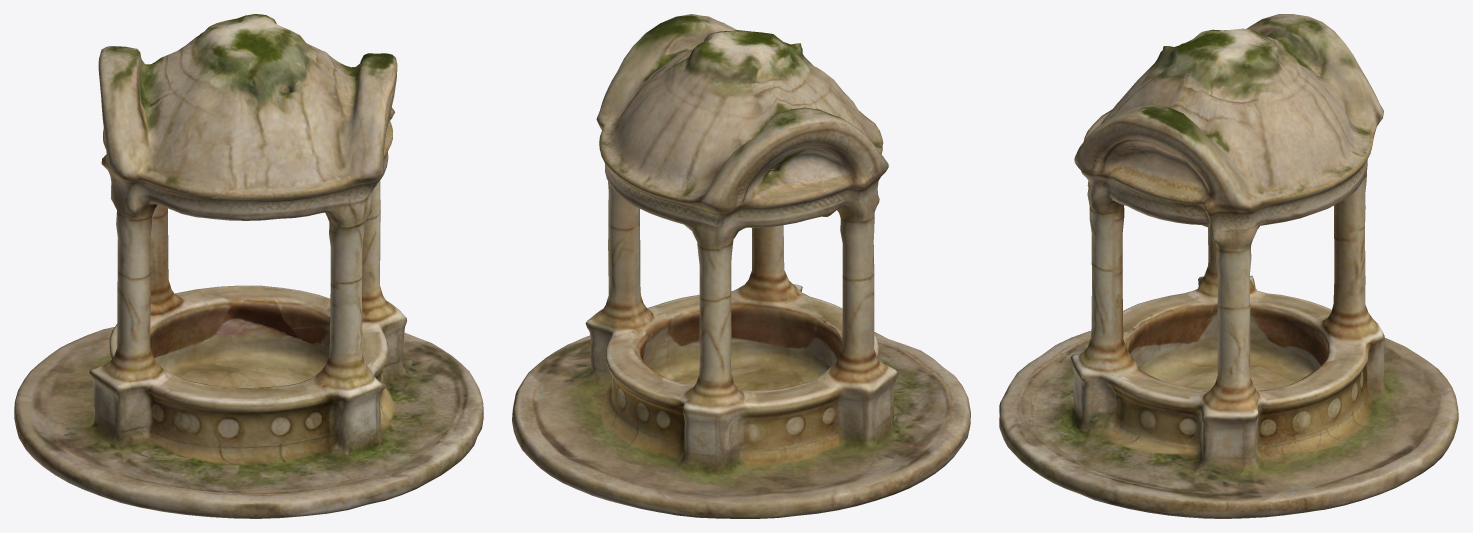
Rendered from Ancient_Stone_Pavilio_1226094634.fbx.
3 views of the same model, side by side, from view 1: azimuth 30°, elevation 25°; view 2: azimuth 150°, elevation 25°; view 3: azimuth 270°, elevation 25° (orthographic). The views are drawn at different scales.
Visible parts, largest first — view 1: Mesh_0; view 2: Mesh_0; view 3: Mesh_0.
Boxes of the visible parts, box(x1,y1,x2,y2) form: Mesh_0: box(14, 14, 483, 518); Mesh_0: box(512, 14, 970, 518); Mesh_0: box(999, 14, 1458, 518).
Bounding box in the file's own units: 200 × 184 × 199.
Materials: 1 (1 with a texture image).
